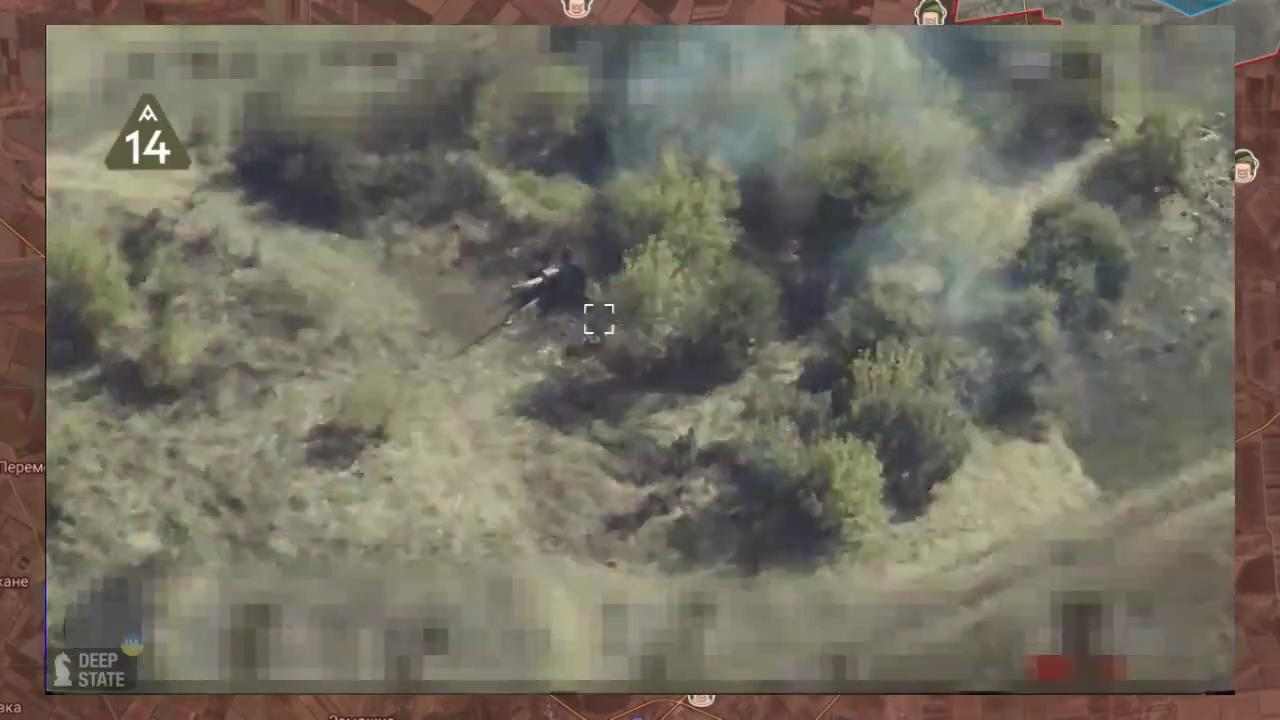tank: (471, 247, 594, 360)
